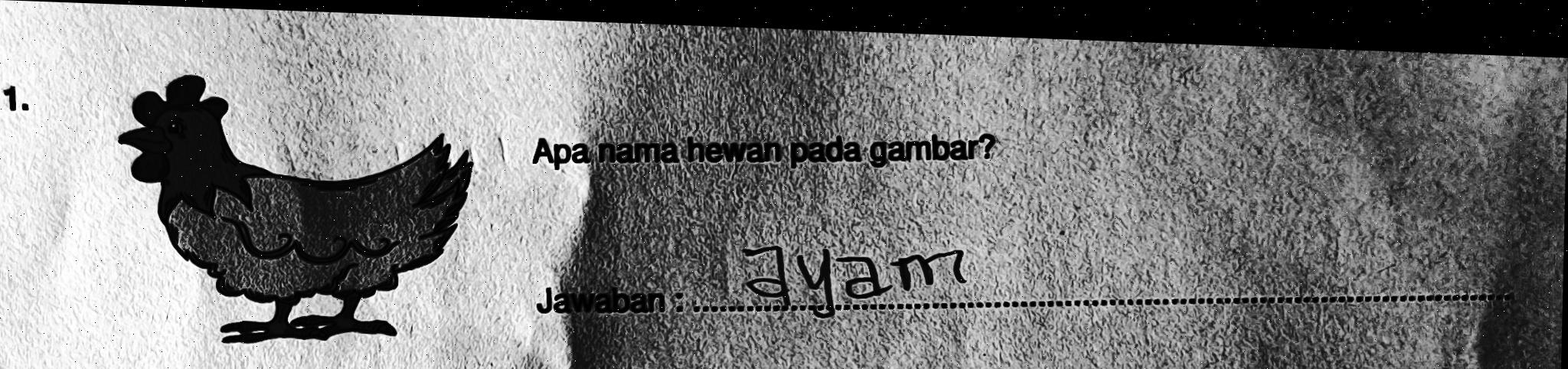jawaban: (739, 234, 974, 315)
